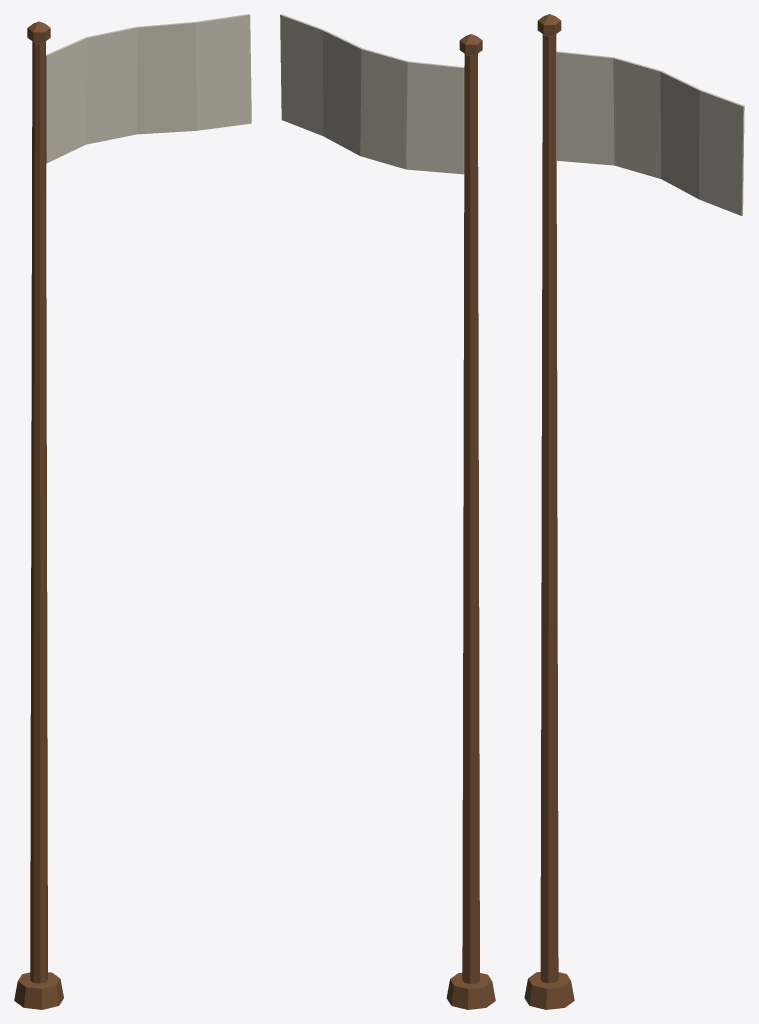
The model's file is SN_Flag_Pole.glb.
The picture shows the model from 3 angles, left to right: view 1: azimuth 30°, elevation 25°; view 2: azimuth 150°, elevation 25°; view 3: azimuth 330°, elevation 25°; orthographic projection. The views are drawn at different scales.
Parts seen in each view (by area): view 1: SN_Flag_Pole; view 2: SN_Flag_Pole; view 3: SN_Flag_Pole.
Boxes of the visible parts, x1,y1,x2,y2 form: SN_Flag_Pole: [14, 14, 251, 1009]; SN_Flag_Pole: [280, 14, 495, 1009]; SN_Flag_Pole: [524, 14, 744, 1009].
Bounding box in the file's own units: 1.42 × 6 × 0.2587.
